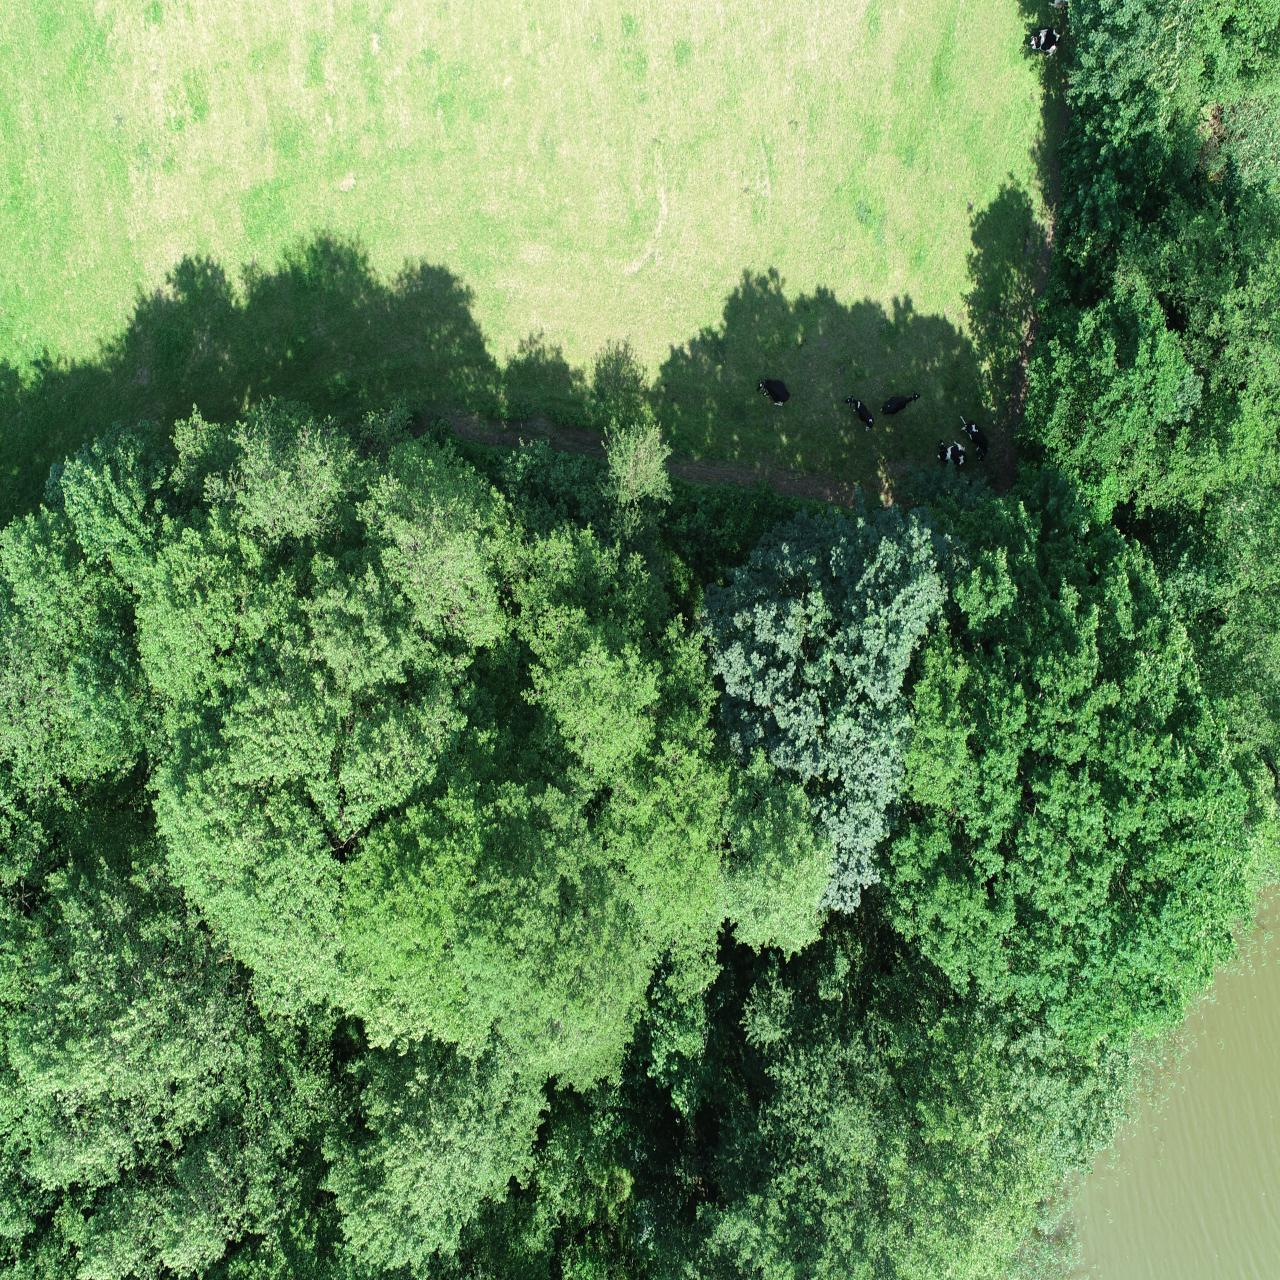cow: (879, 387, 921, 420), (843, 393, 874, 435), (754, 376, 791, 409), (935, 436, 966, 469)
